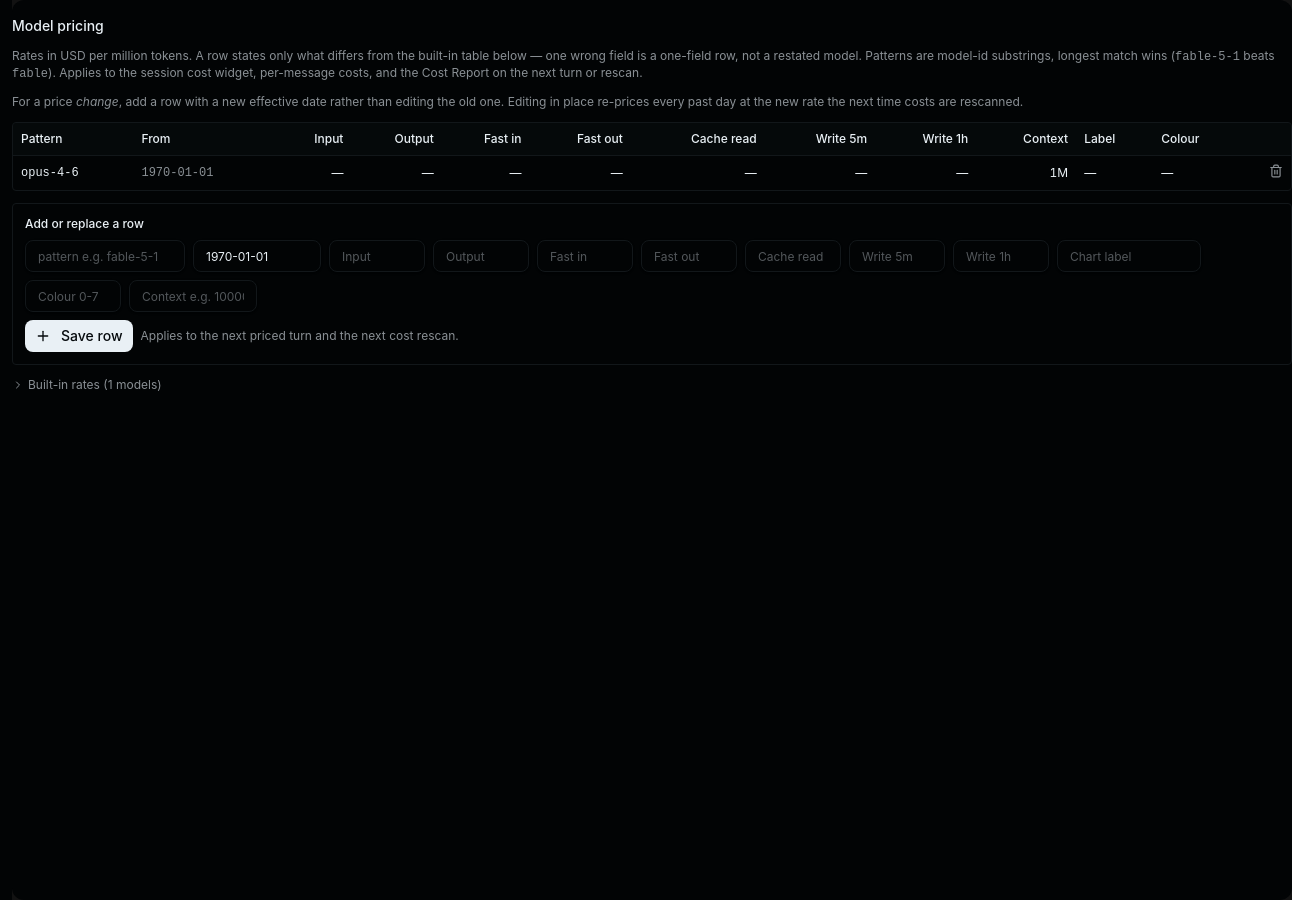
Test case: ModelPricingEditor save feedback › keeps a typing mistake inline and writes nothing
This screenshot has width=1292, height=900.
Check: the text "opus-4-6" is shown, box left=13, top=156, right=133, bottom=190
Type "opus-9" into the field named "Model pattern". click: coordinates (105, 256)
box: left=25, top=240, right=185, bottom=272
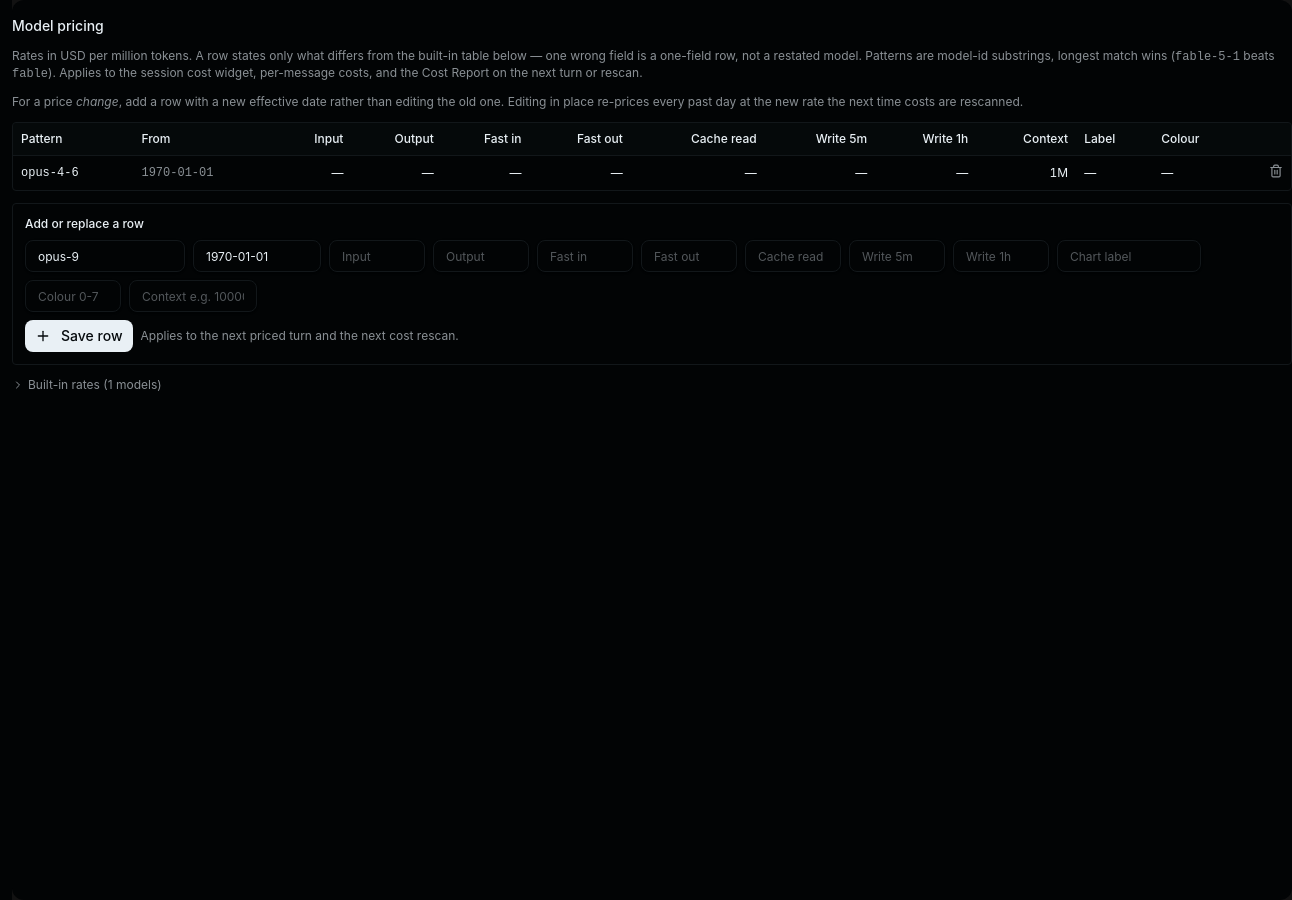
Type "lots" into the field named "Context window". click: coordinates (193, 296)
box: left=129, top=280, right=257, bottom=312
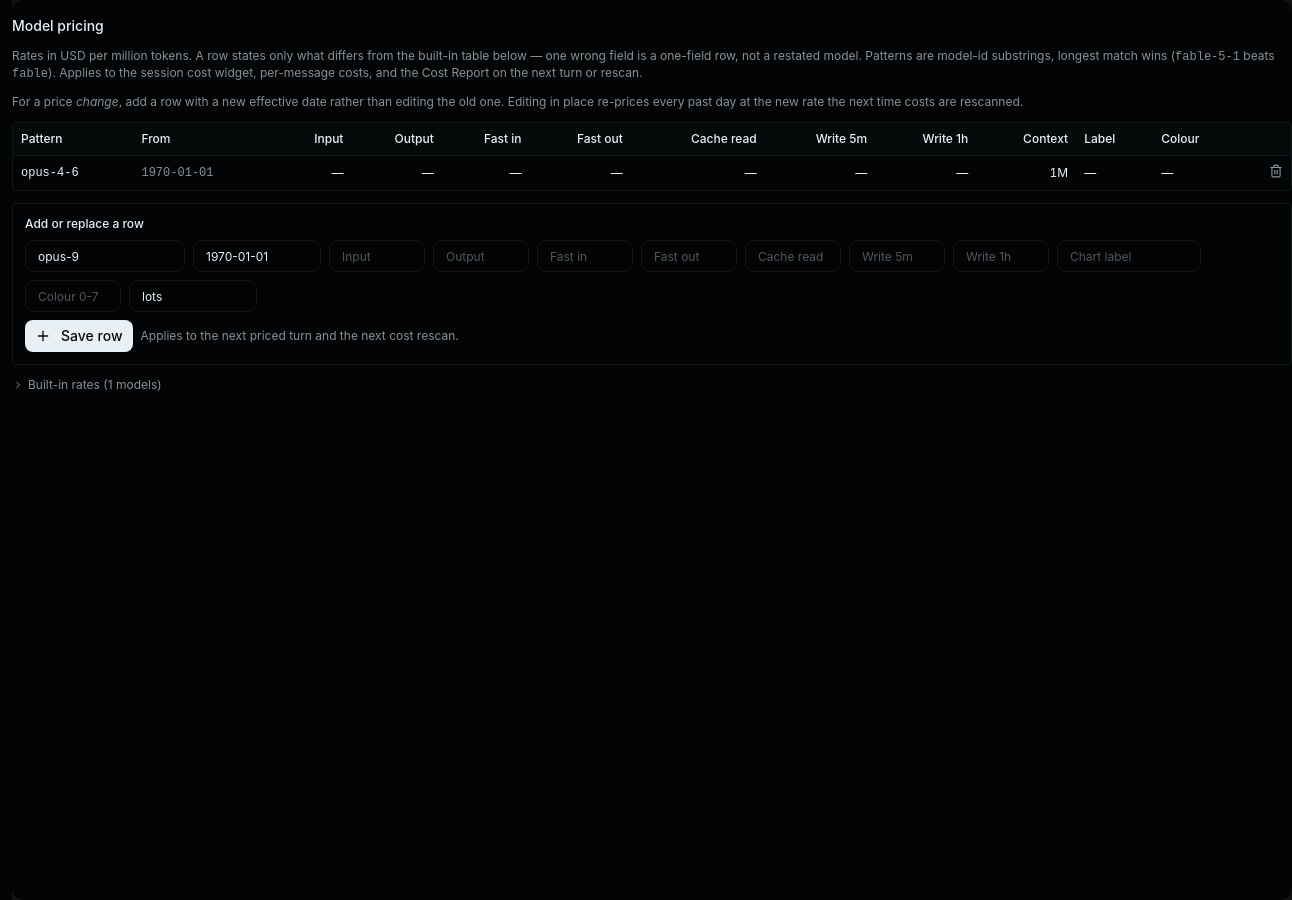
Click the button "Save row". click: coordinates (79, 336)
box: left=25, top=320, right=132, bottom=352
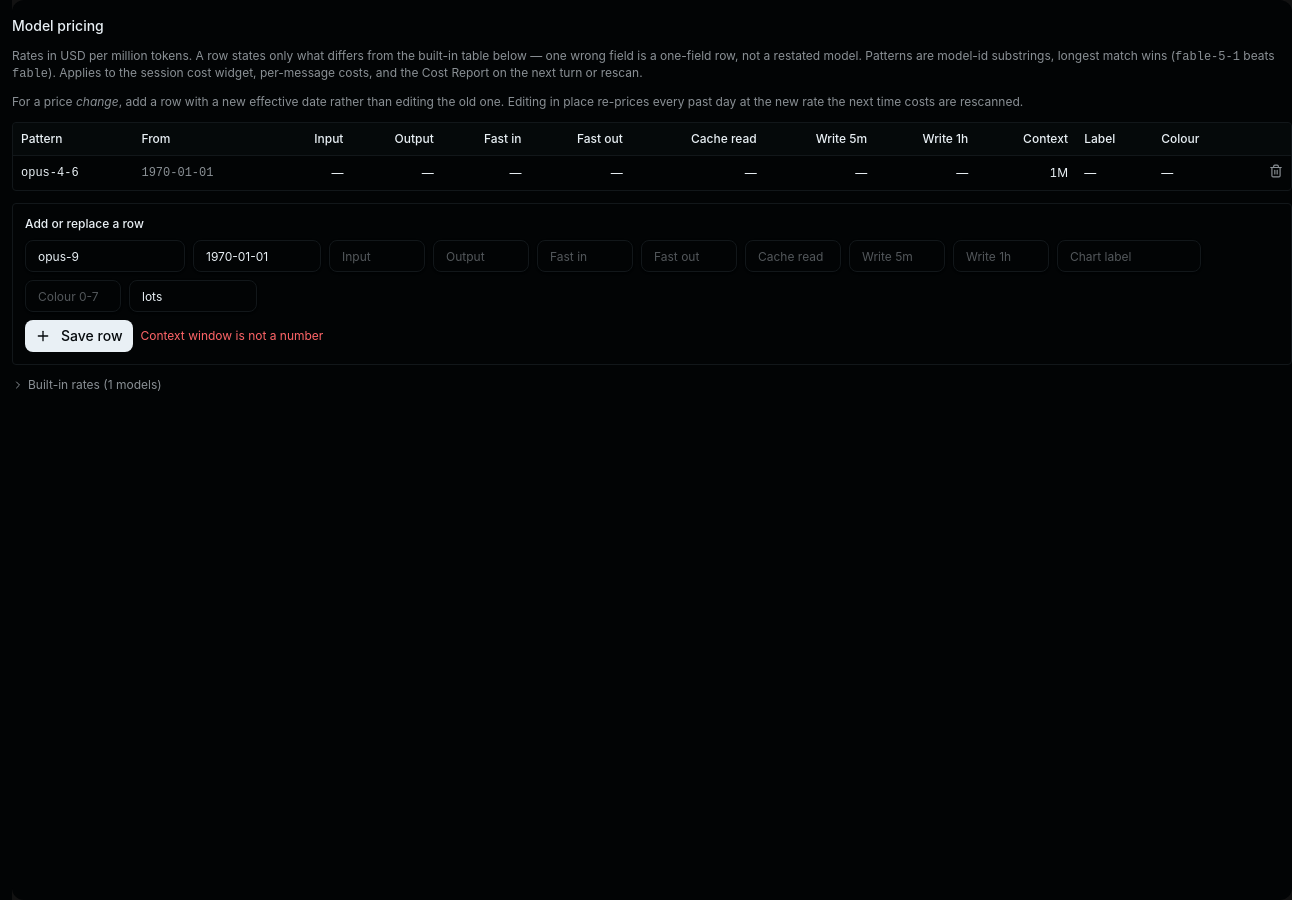
Check: the text "Context window is not a number" is shown, box left=140, top=328, right=323, bottom=344
